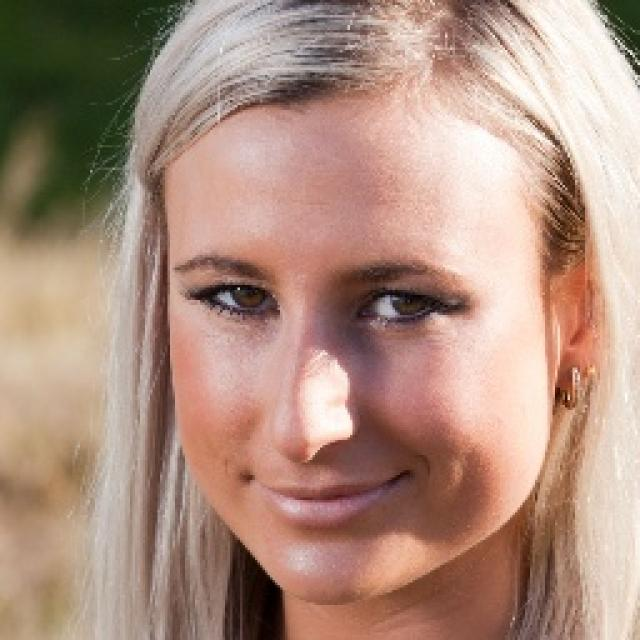earlobe: (555, 341, 594, 394)
eye: (357, 288, 455, 327), (193, 279, 284, 318)
nose: (270, 433, 358, 478)
wholeear: (555, 213, 612, 394)
